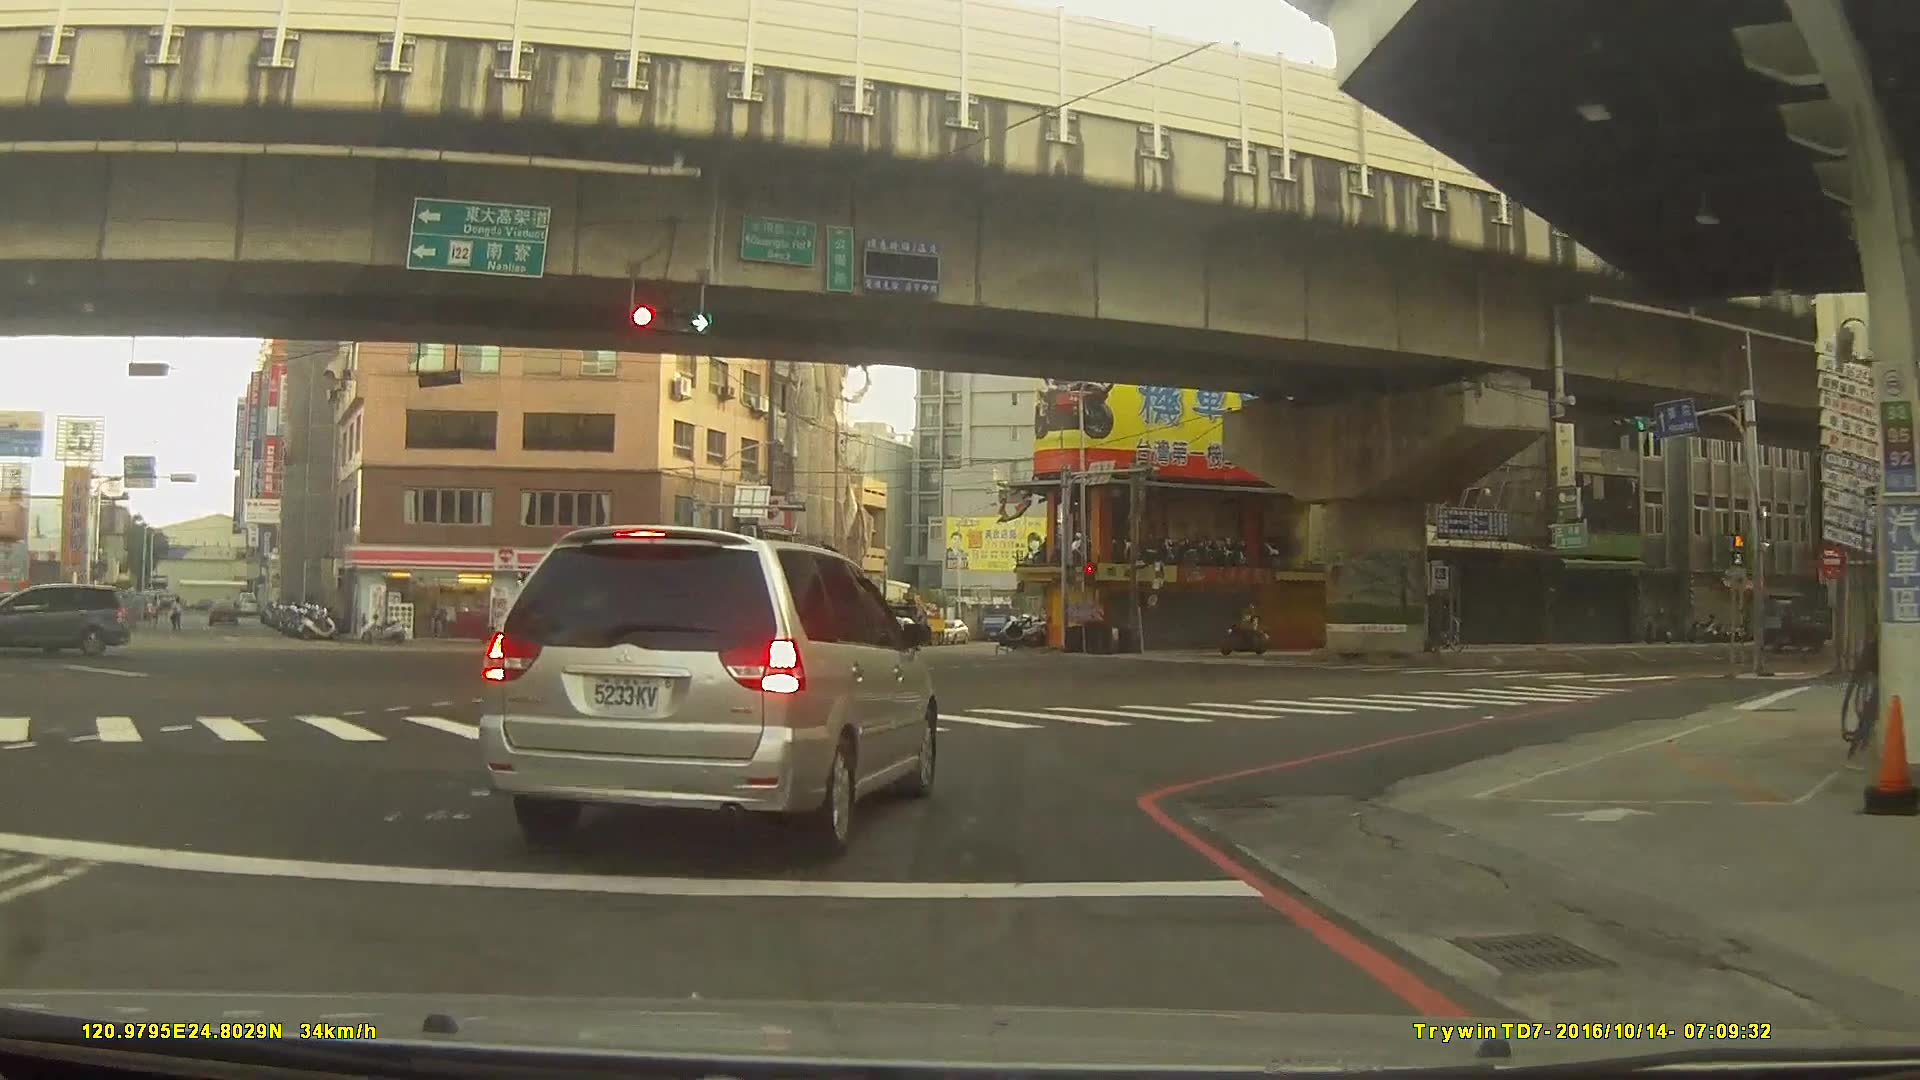rider: (1218, 602, 1269, 656)
vehicle: (478, 522, 937, 855), (0, 579, 130, 656), (1754, 589, 1830, 653), (848, 618, 912, 655), (543, 606, 605, 633), (202, 594, 236, 624)
